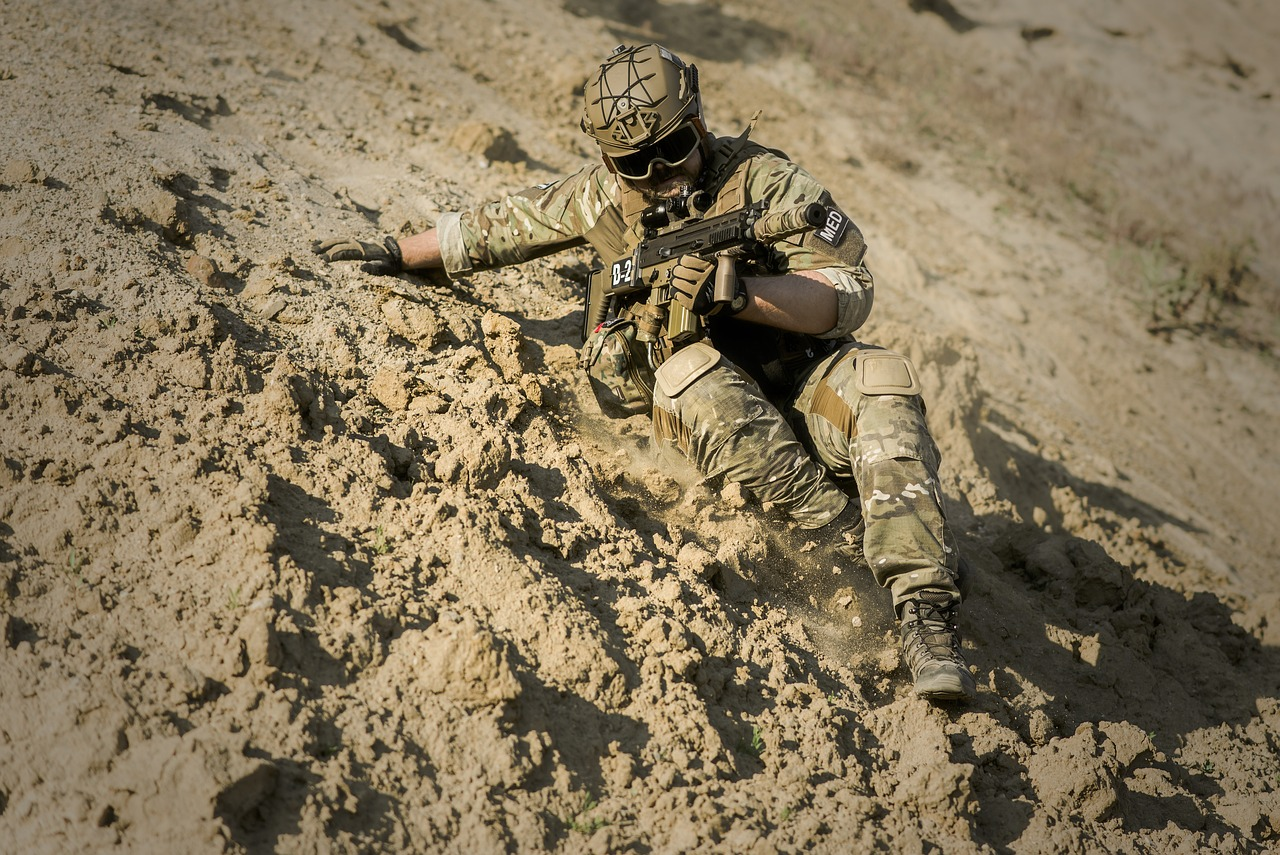gun: (575, 179, 832, 349)
